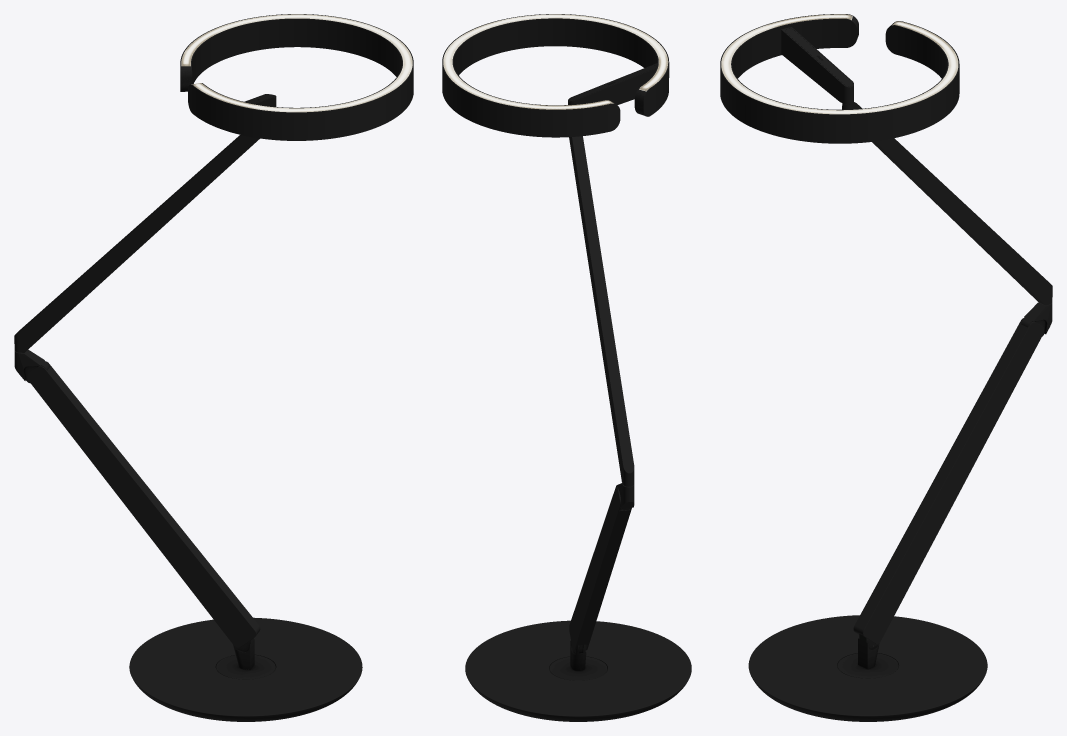
The model's file is Asset1.glb.
The picture shows the model from 3 angles, left to right: view 1: azimuth 30°, elevation 25°; view 2: azimuth 150°, elevation 25°; view 3: azimuth 270°, elevation 25°; orthographic projection. The views are drawn at different scales.
Parts seen in each view (by area): view 1: base, headBrushed, body01, body02, headLedUp, headGlossy, baseCenter; view 2: base, headBrushed, body02, body01, headLedUp, forkLid, headGlossy, baseCenter; view 3: base, headBrushed, body01, body02, headLedUp, forkLid, baseCenter, headGlossy, joint.
Boxes of the visible parts, x1,y1,x2,y2 form: base: [129, 617, 362, 721]; headBrushed: [180, 19, 413, 140]; body01: [27, 361, 260, 647]; body02: [14, 135, 259, 352]; headLedUp: [181, 14, 412, 112]; headGlossy: [180, 14, 413, 112]; baseCenter: [216, 638, 275, 679]; base: [465, 620, 691, 721]; headBrushed: [442, 18, 669, 137]; body02: [569, 136, 634, 486]; body01: [569, 485, 631, 651]; headLedUp: [443, 14, 668, 109]; forkLid: [568, 63, 657, 104]; headGlossy: [442, 14, 669, 116]; baseCenter: [549, 640, 607, 680]; base: [748, 615, 987, 721]; headBrushed: [720, 19, 959, 143]; body01: [853, 317, 1044, 643]; body02: [842, 102, 1052, 305]; headLedUp: [721, 14, 958, 114]; forkLid: [781, 27, 853, 104]; baseCenter: [837, 634, 898, 678]; headGlossy: [720, 14, 959, 114]; joint: [1021, 302, 1052, 336].
Bounding box in the file's own units: 0.4188 × 0.8752 × 0.4169.
Materials: 11 (9 with a texture image).
